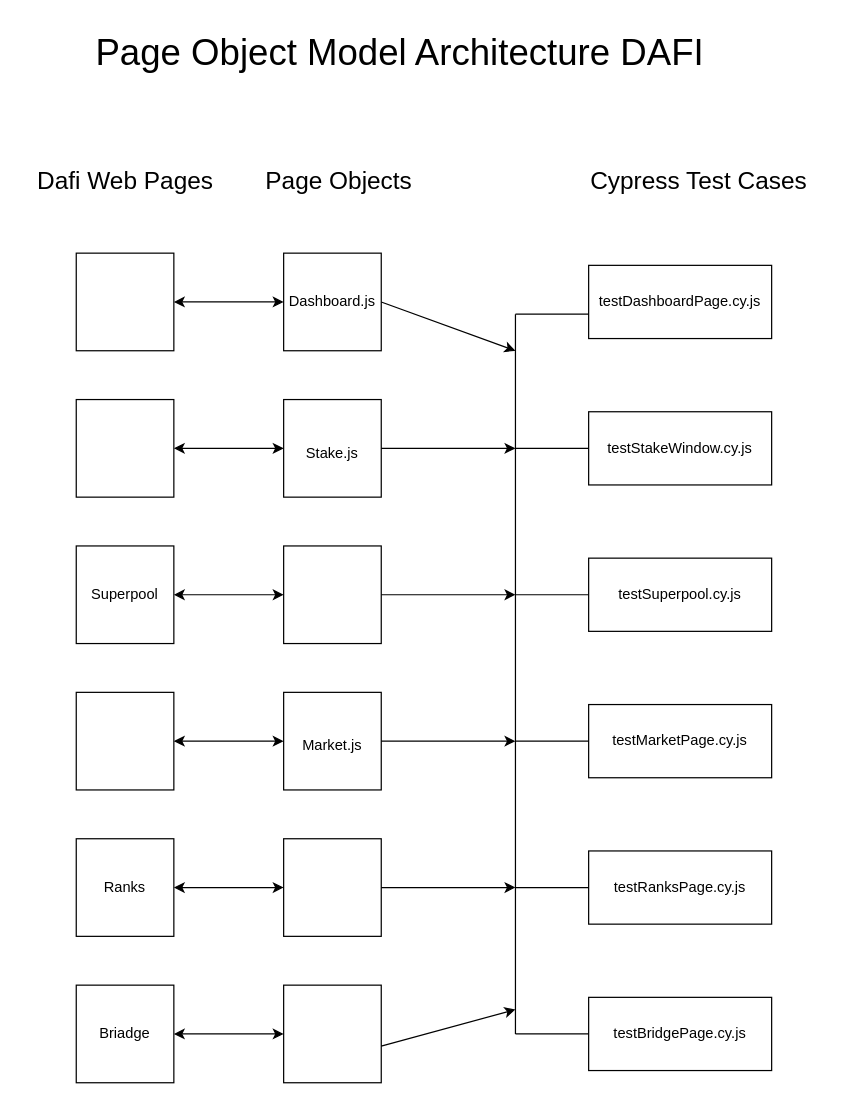
Some shapes in this 841 by 1104 pixel diagram are drawn without their labels. The centre of each missing label's shape, as x and y in pixels:
Briadge.js: the point at 331,1033
Dashboard: the point at 124,301
Market: the point at 124,740
Ranks.js: the point at 331,887
Stake: the point at 124,447
Suerpool.js: the point at 331,594
